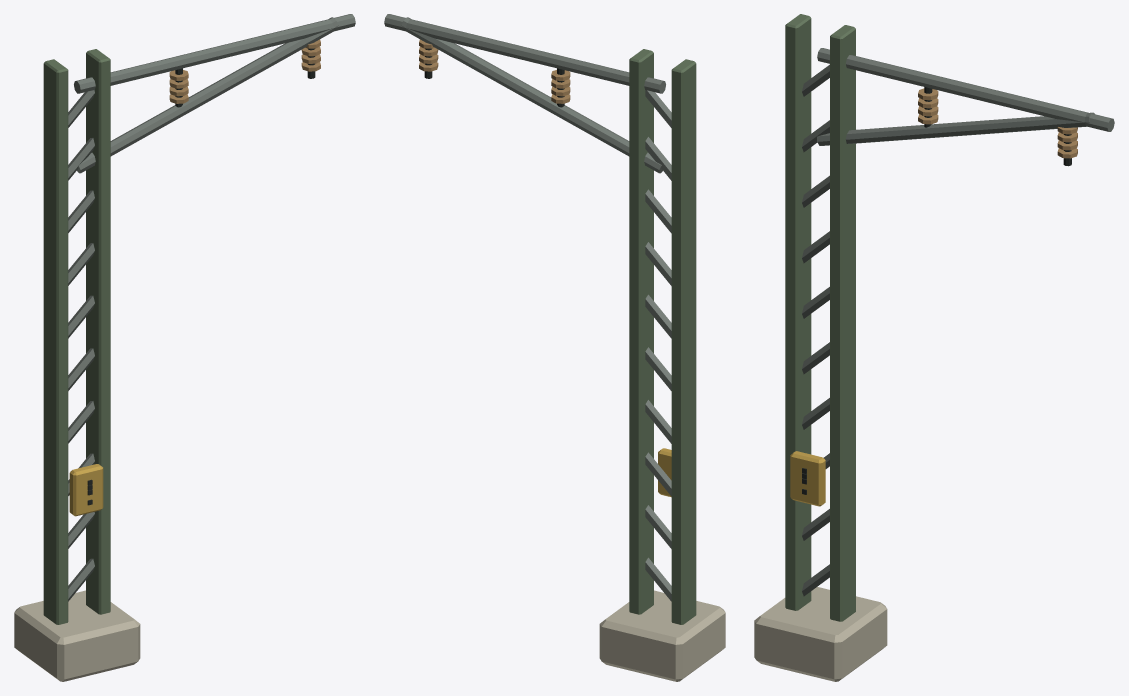
The model's file is catenary-mast.glb.
The picture shows the model from 3 angles, left to right: view 1: azimuth 30°, elevation 25°; view 2: azimuth 150°, elevation 25°; view 3: azimuth 330°, elevation 25°; orthographic projection. The views are drawn at different scales.
Parts seen in each view (by area): view 1: catenary-mast; view 2: catenary-mast; view 3: catenary-mast.
Part boxes in pixels (left/top/right/bottom): catenary-mast: left=14, top=14, right=355, bottom=681; catenary-mast: left=384, top=14, right=725, bottom=681; catenary-mast: left=754, top=14, right=1114, bottom=681.
Size of the model in its own units: 2.39 by 4.32 by 0.63.
